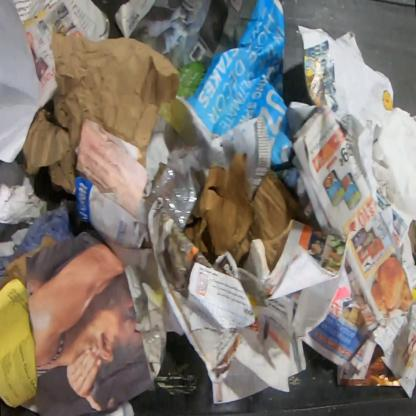cardboard: (182, 152, 311, 272), (0, 235, 59, 292), (407, 219, 415, 266)
rigid_plastic: (150, 146, 197, 233)
